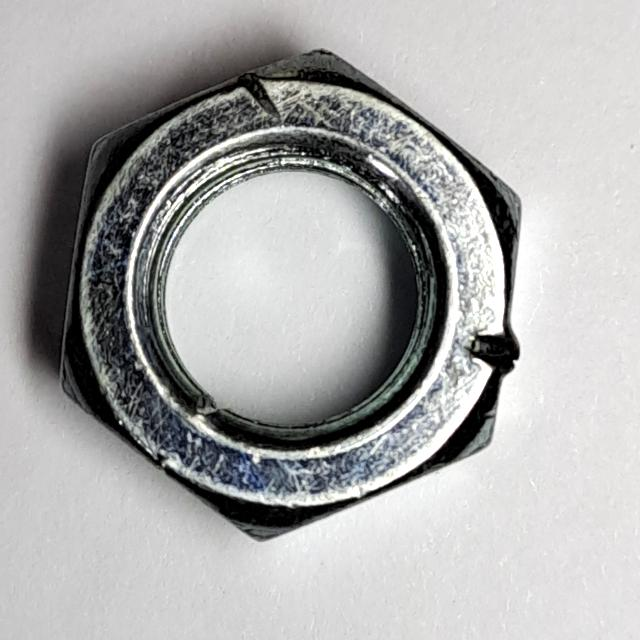Scratches: (52, 39, 535, 562)
